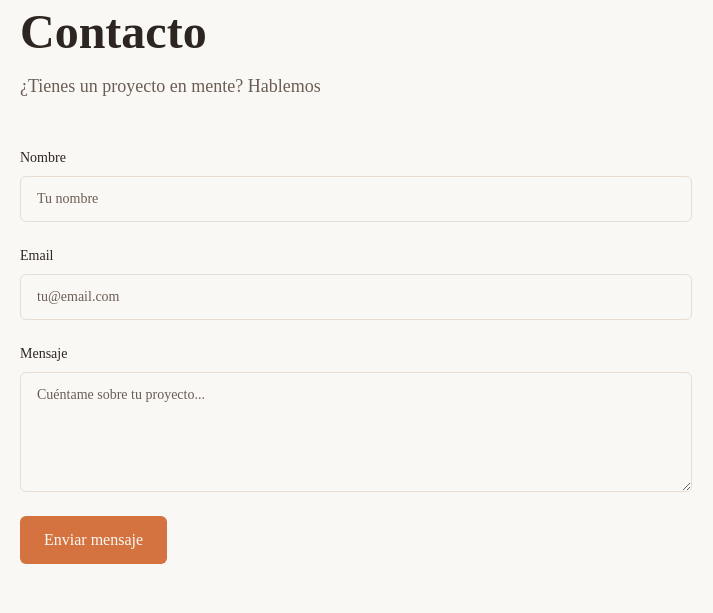
Test: Contact Section › Validation › should show error when message is too short
Type "John Doe" into the field labelled "Nombre" at (356, 199), box [20,176,692,222]
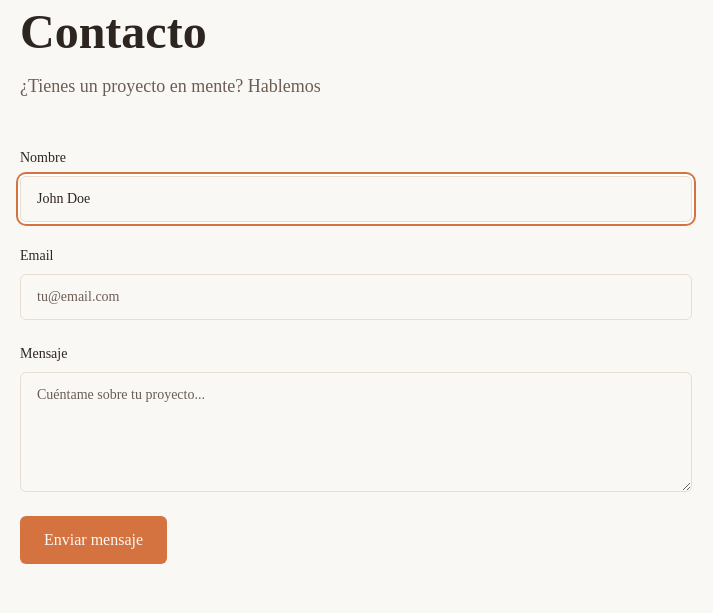
Type "john@example.com" into the field labelled "Email" at (356, 297), box [20,274,692,320]
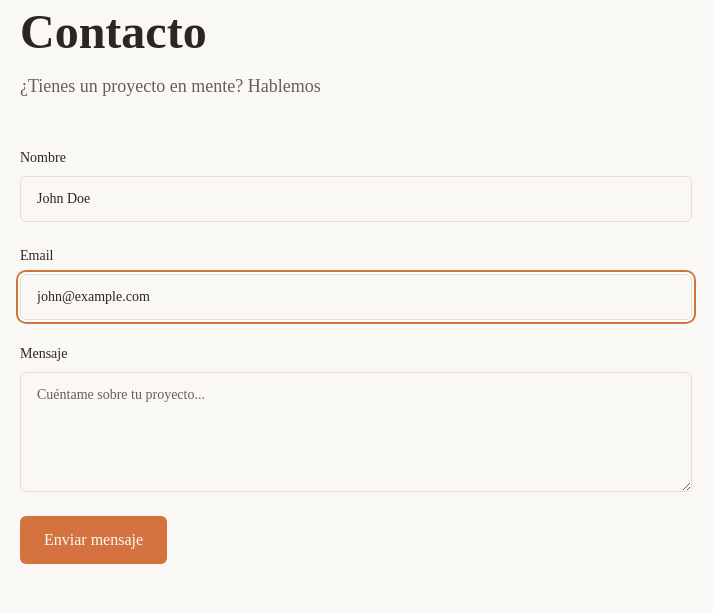
Type "Short" into the text box labelled "Mensaje" at (356, 432), box [20,372,692,492]
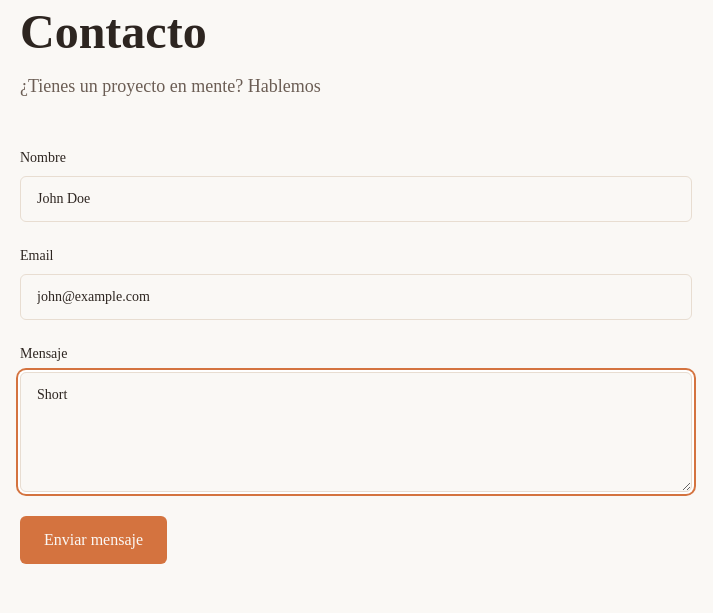
Click the button "Enviar mensaje" at (94, 540), box [20,516,167,564]
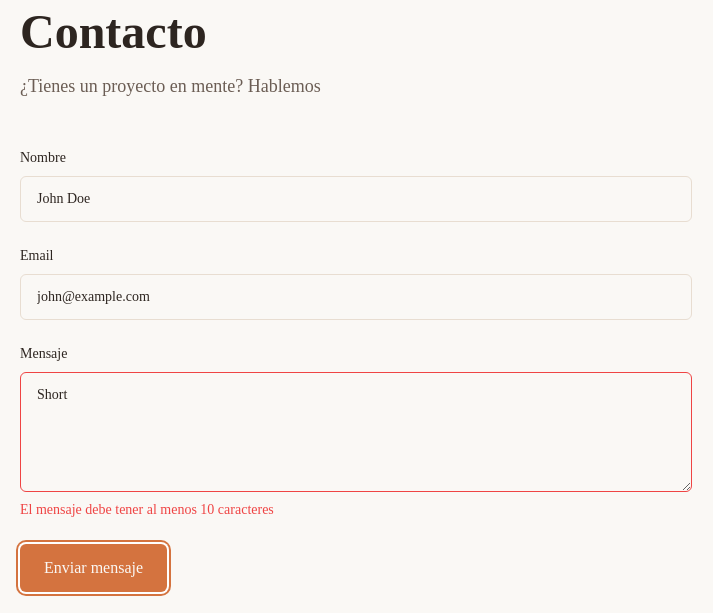
Expected: the text "El mensaje debe tener al menos 10 caracteres" is shown, [20,502,274,517]
